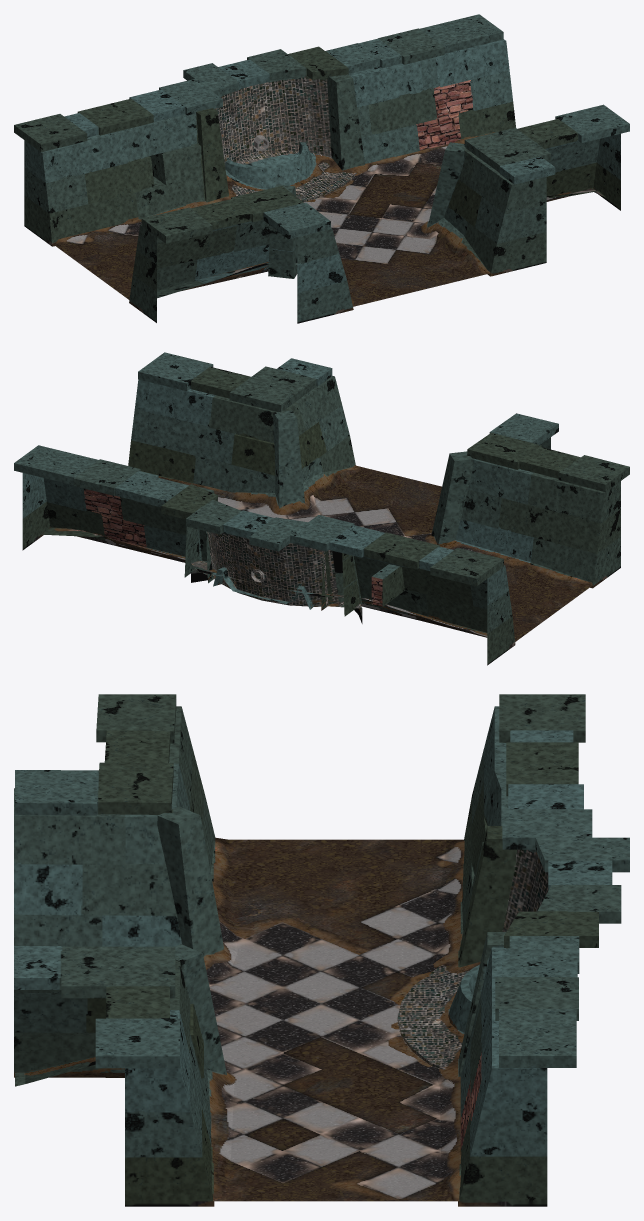
The model's file is branch.fbx.
The picture shows the model from 3 angles, top to bottom: view 1: azimuth 30°, elevation 25°; view 2: azimuth 150°, elevation 25°; view 3: azimuth 270°, elevation 25°; orthographic projection. The views are drawn at different scales.
Parts seen in each view (by area): view 1: branch LP; view 2: branch LP; view 3: branch LP.
Part boxes in pixels (left/top/right/bottom): branch LP: left=14, top=14, right=629, bottom=323; branch LP: left=14, top=352, right=629, bottom=665; branch LP: left=14, top=694, right=629, bottom=1206.
Bounding box in the file's own units: 1602 × 347 × 1152.
